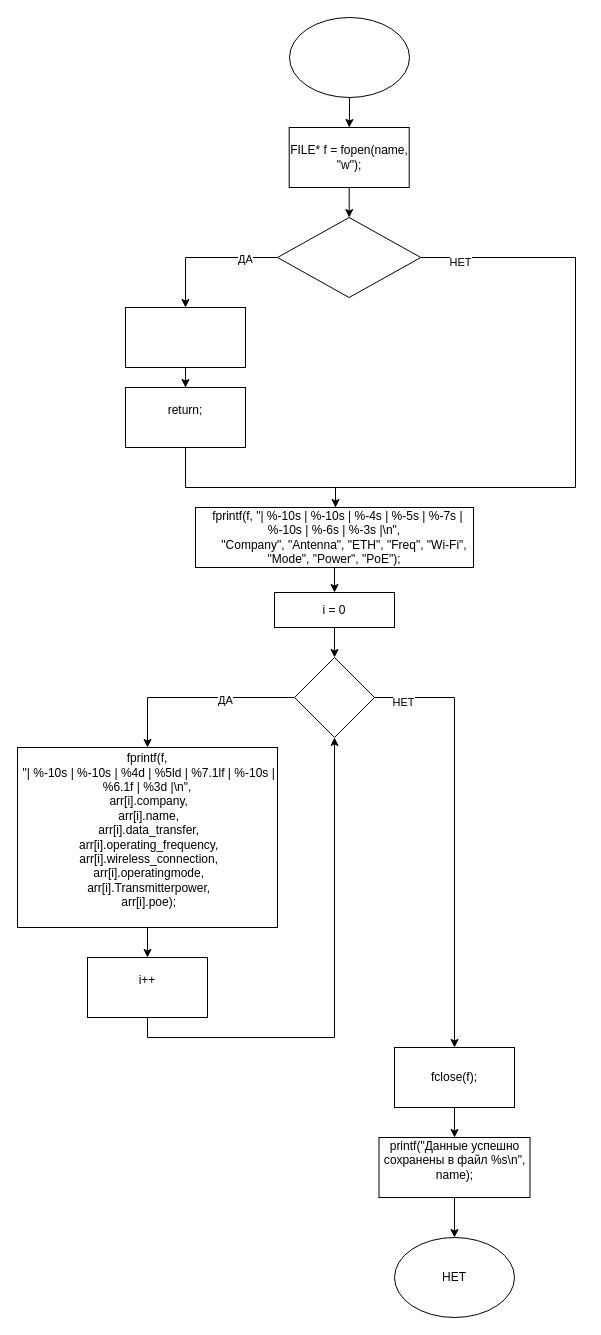
The diagram is 601 pixels wide and 1335 high, and some of its shapes have lost their labels. The shapes that lost their labels are listed below. From the top down, each one's box as (x1, y1, x2, y2) in pixels, then its label:
(288, 16, 410, 98): НАЧАЛО
(276, 216, 421, 298): f == NULL ?
(124, 306, 246, 368): printf("Не удалось открыть файл!\n");
(294, 656, 374, 738): i < size ?
